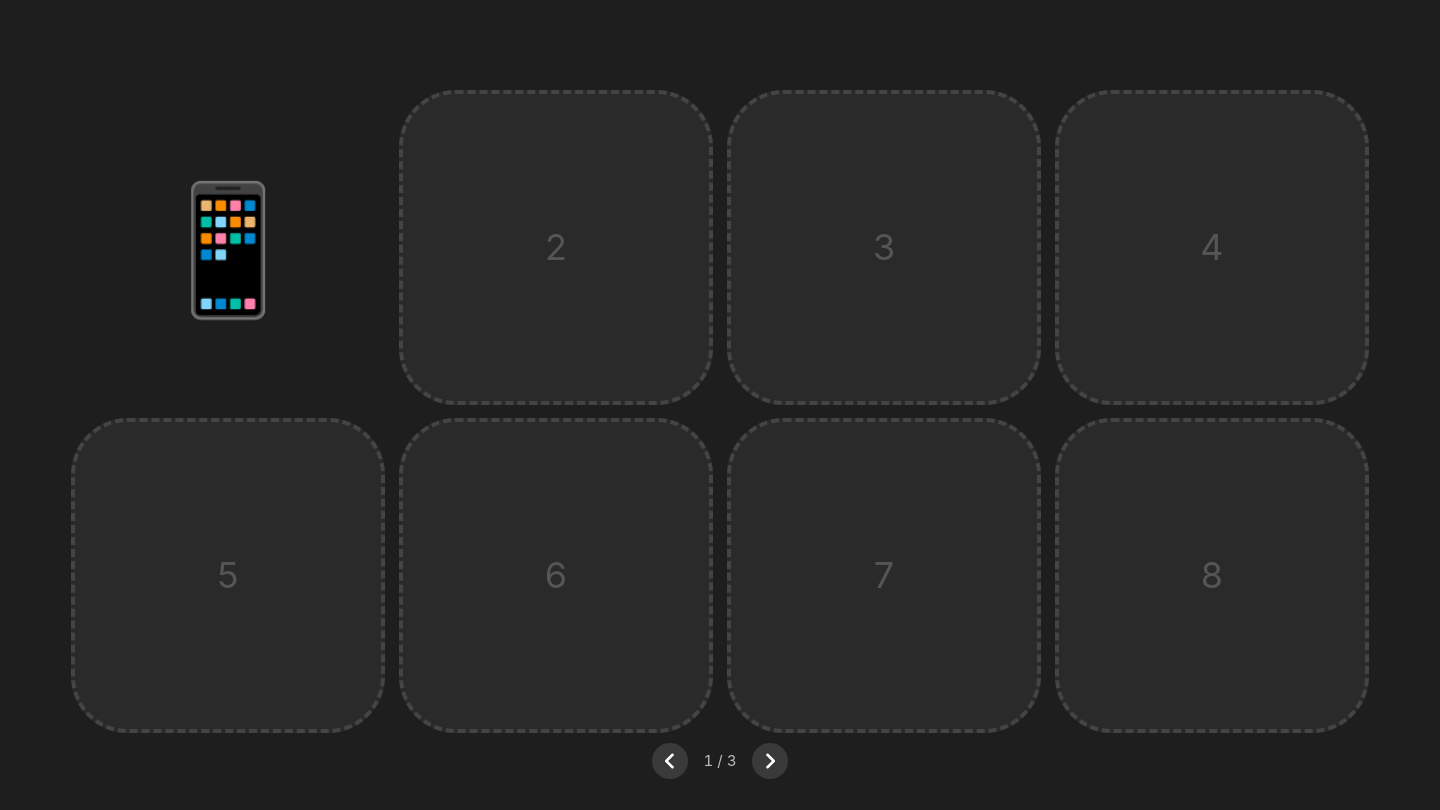
App rename › stays open and shows the reason when renaming fails
expect the text "1 / 3" is shown: met, box top-left (704, 751), bottom-right (736, 770)
Right-click the button named "Foo" at (228, 247), box top-left (149, 171), bottom-right (307, 323)
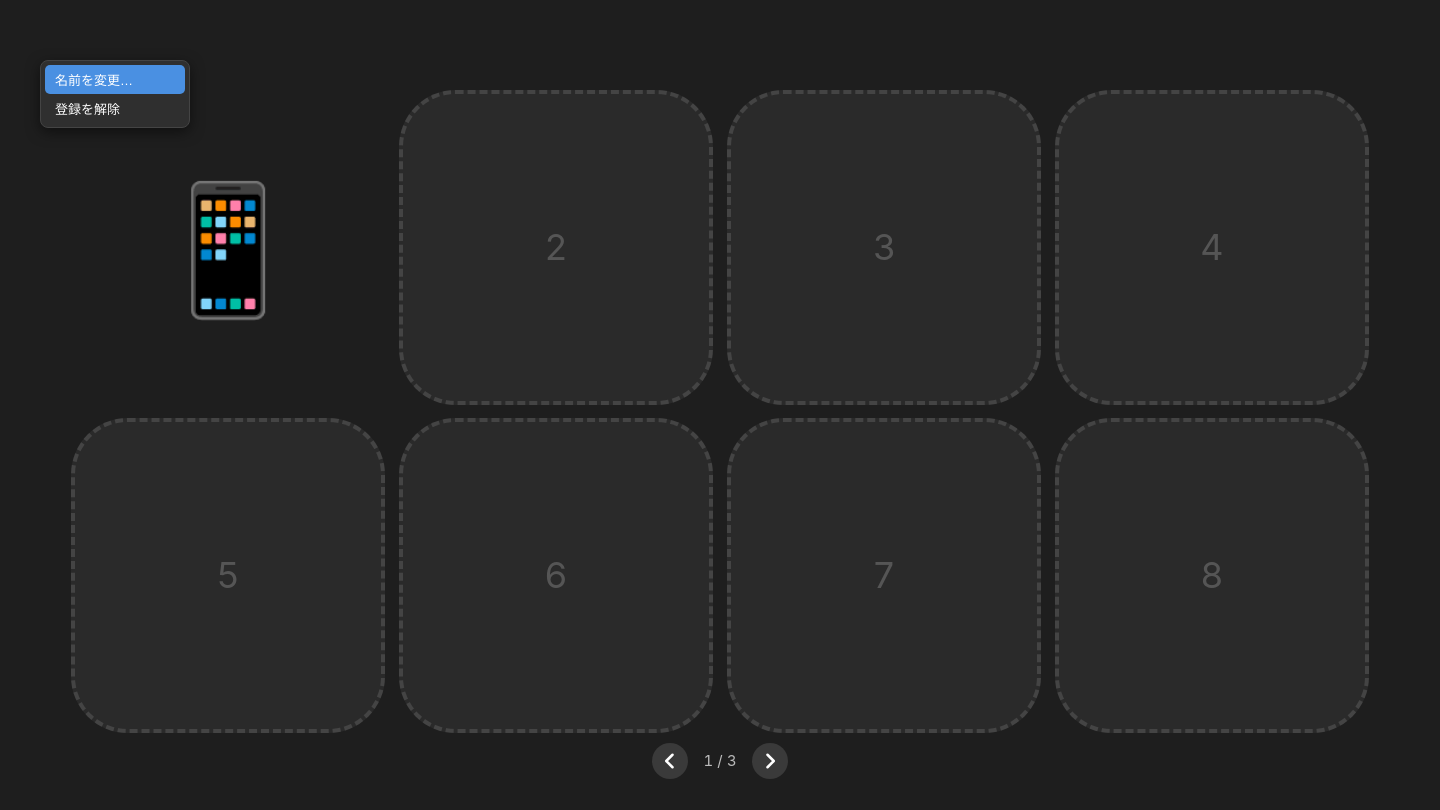
Click the menu item "名前を変更…" at (115, 80), box top-left (45, 65), bottom-right (185, 94)
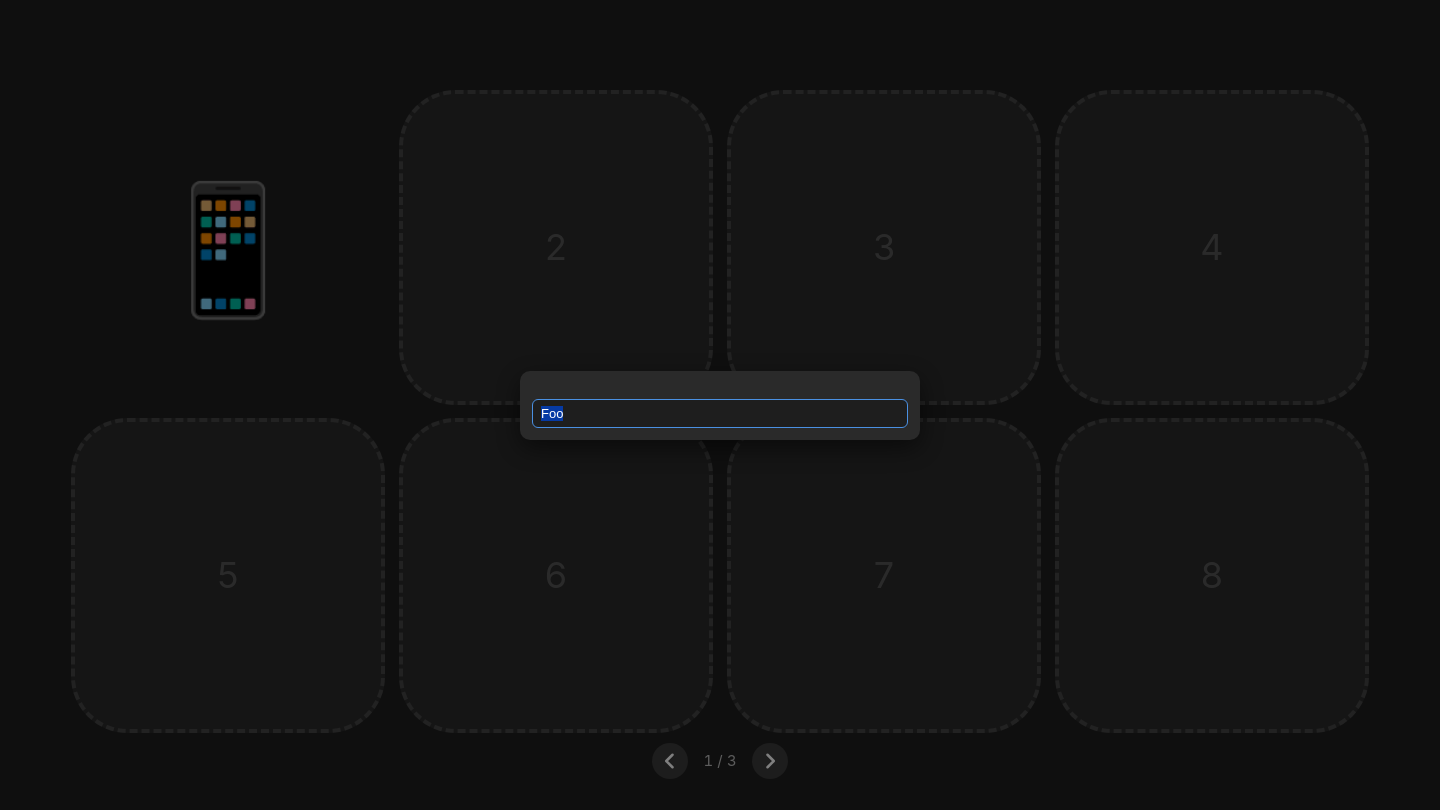
Type "x" into the field named "名前" at (720, 413), box top-left (532, 398), bottom-right (908, 428)
Then press Enter
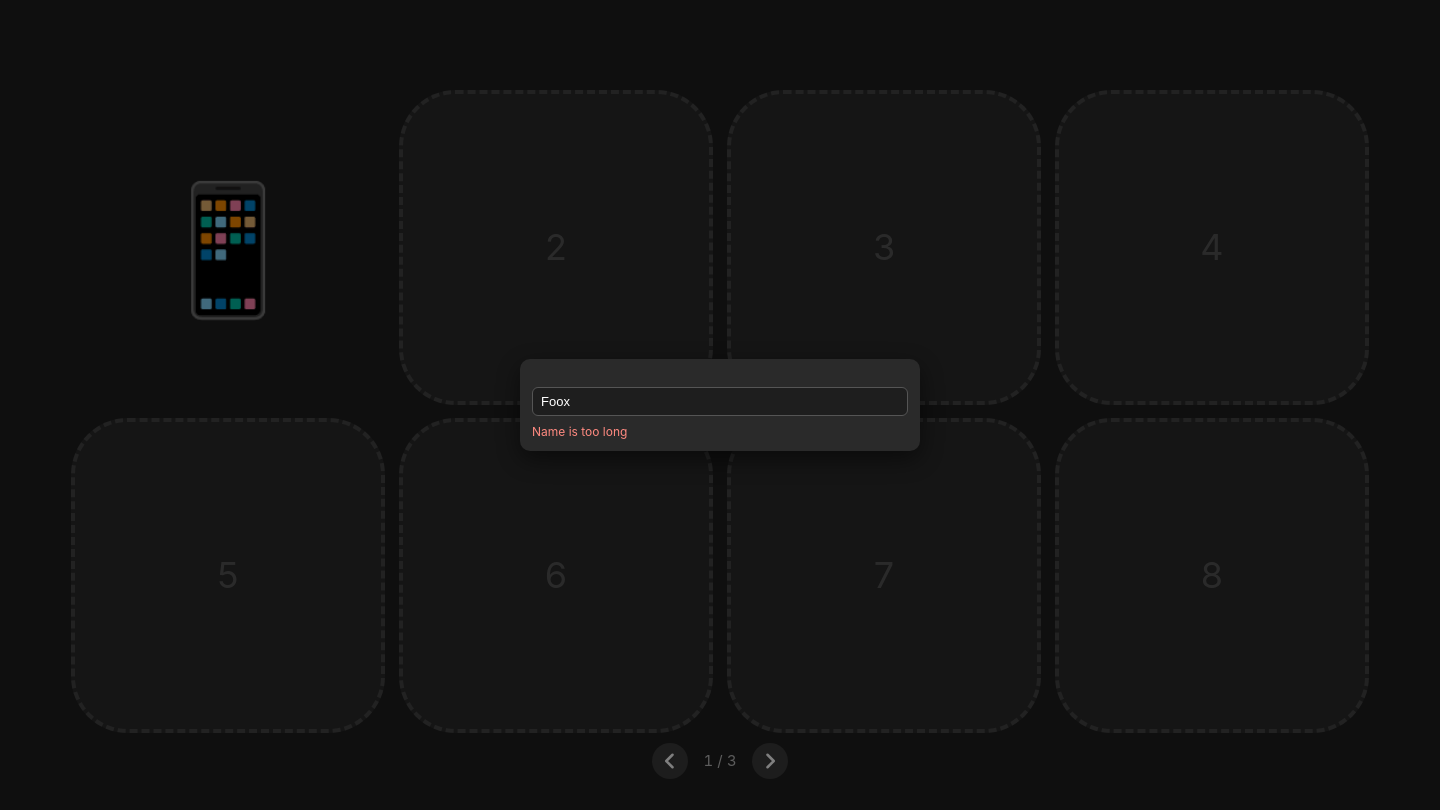
expect the dialog named "名前を変更" is shown: met, box top-left (520, 359), bottom-right (920, 451)
expect the text "Name is too long" is shown: met, box top-left (532, 424), bottom-right (627, 439)
